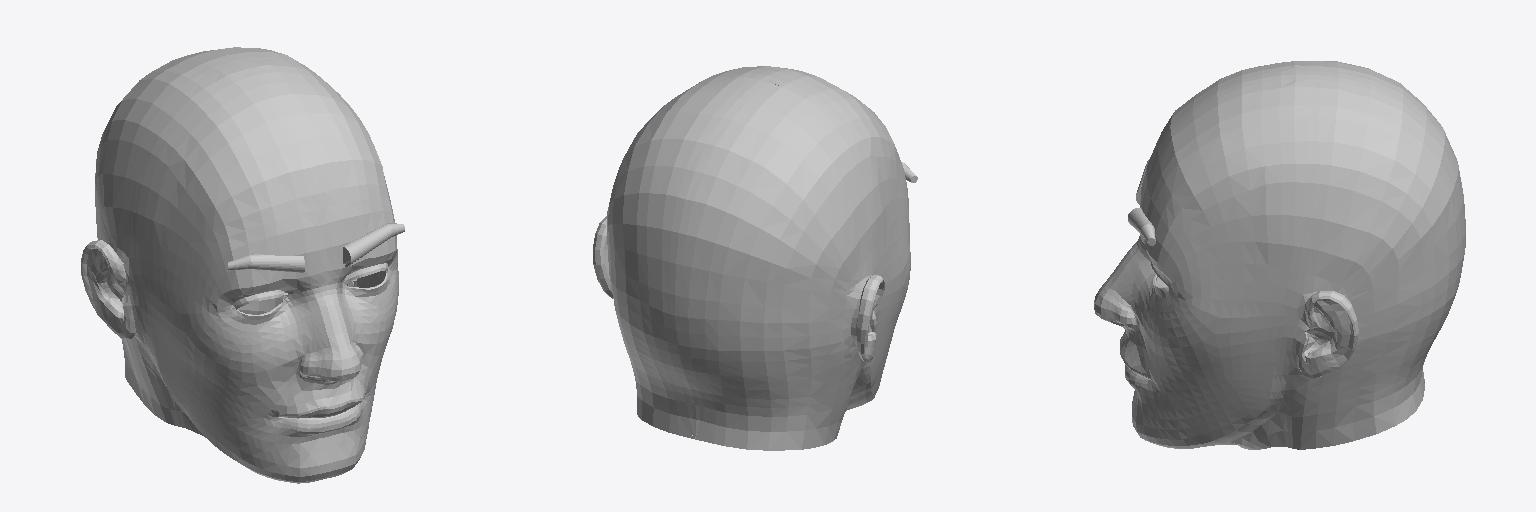
3 views of the same model, side by side, from view 1: azimuth 30°, elevation 25°; view 2: azimuth 150°, elevation 25°; view 3: azimuth 270°, elevation 25° (orthographic).
Parts seen in each view (by area): view 1: male_head.obj, Cylinder, Cylinder.001; view 2: male_head.obj; view 3: male_head.obj, Cylinder.001.
Boxes of the visible parts, x1=… form: male_head.obj: x1=81, y1=47, x2=398, y2=483; Cylinder: x1=228, y1=254, x2=304, y2=272; Cylinder.001: x1=343, y1=223, x2=404, y2=266; male_head.obj: x1=593, y1=66, x2=910, y2=450; male_head.obj: x1=1094, y1=61, x2=1465, y2=449; Cylinder.001: x1=1128, y1=208, x2=1155, y2=245.
Size of the model in its own units: 3.06 by 3.82 by 3.54.